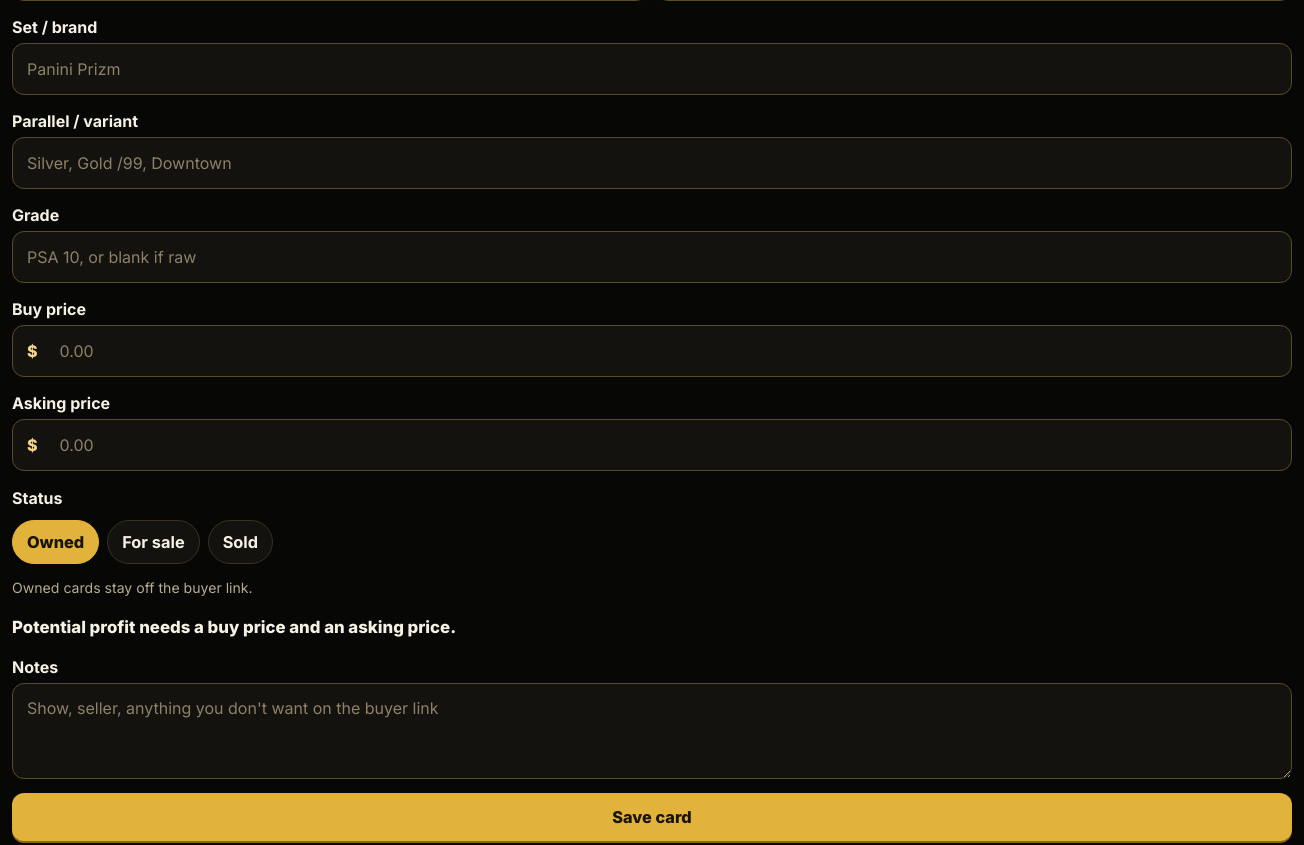
Test: CardForm › shows realized profit from sold price minus buy price
(page scrolled)
Click the button "Sold".
click(240, 542)  # box x1=208 y1=520 x2=273 y2=564
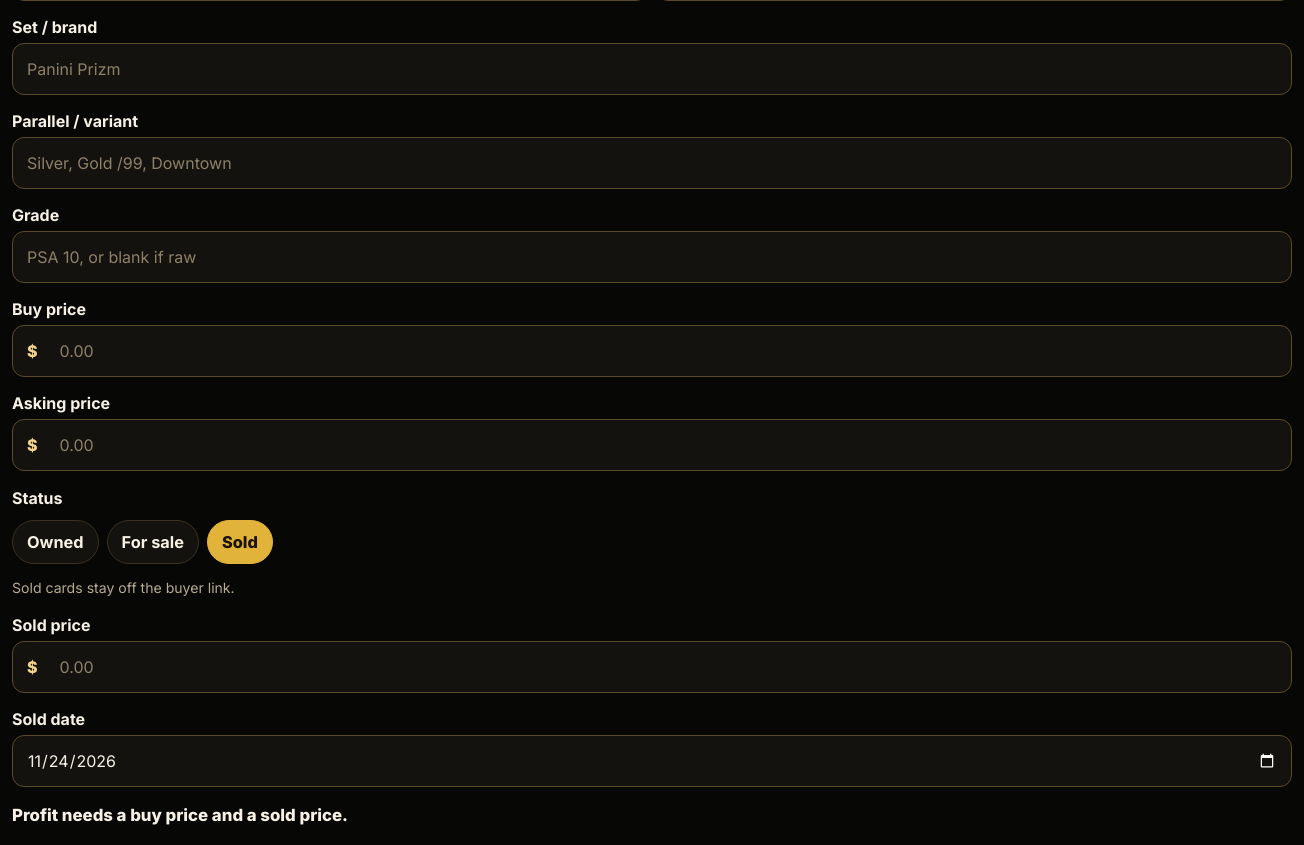
Type "10" into the field labelled "Buy price".
click(668, 351); type("10")  # box x1=46 y1=326 x2=1291 y2=376
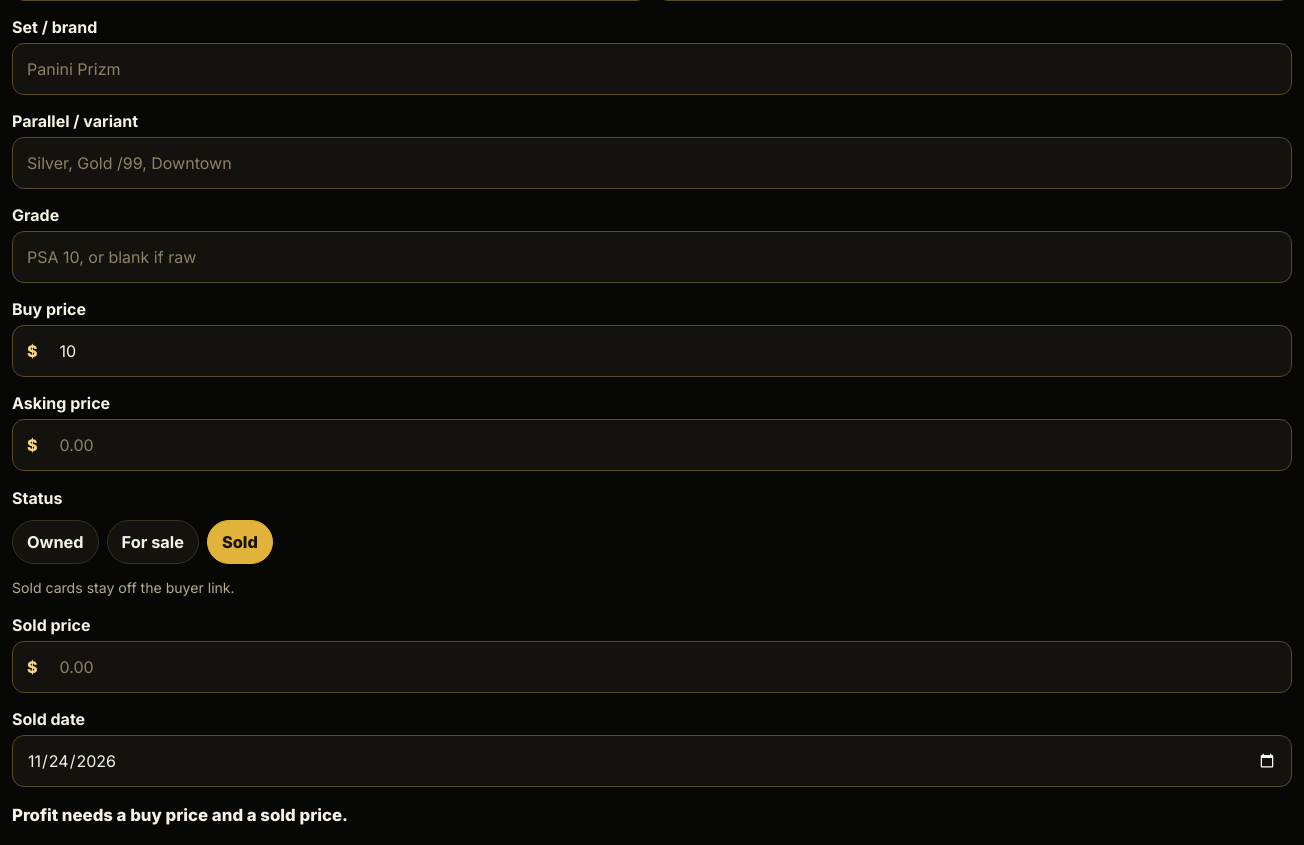
Type "40" into the field labelled "Sold price".
click(668, 667); type("40")  # box x1=46 y1=642 x2=1291 y2=692
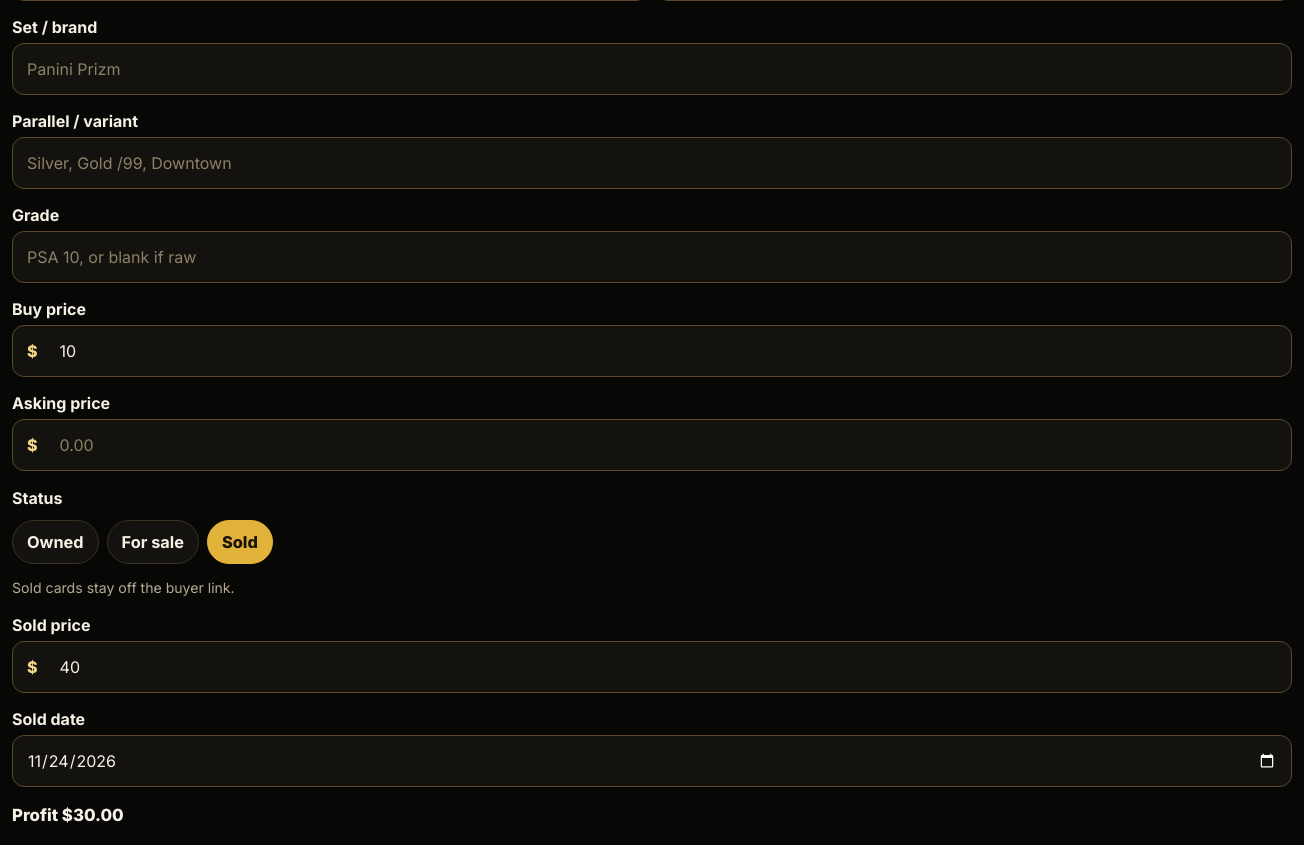
Check: the text with test id "profit-line" reads "Profit $30.00", box x1=12 y1=806 x2=124 y2=826
Replace the text in the field labelled "Sold price" with "4" at x=668, y=667, box x1=46 y1=642 x2=1291 y2=692
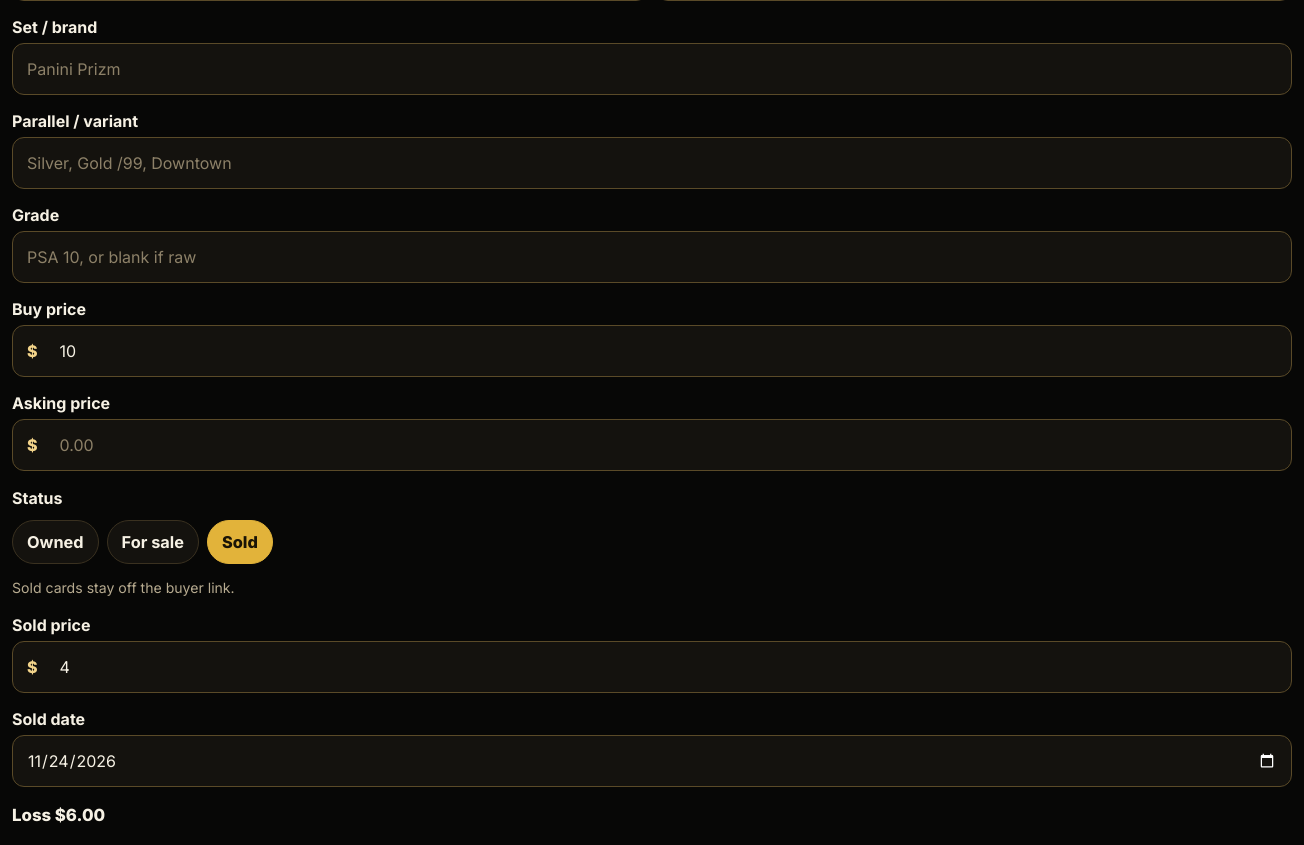
Check: the text with test id "profit-line" reads "Loss $6.00", box x1=12 y1=806 x2=105 y2=826
